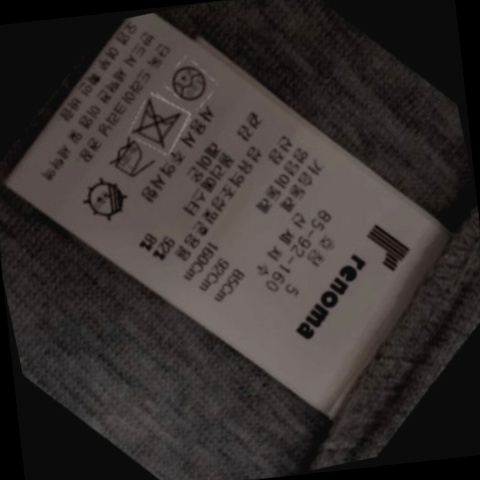DN_wash: (126, 92, 194, 154)
dry_clean_petrol_only: (164, 55, 218, 108)
iron_low: (101, 133, 161, 188)
line_dry_in_shade: (77, 171, 141, 229)
